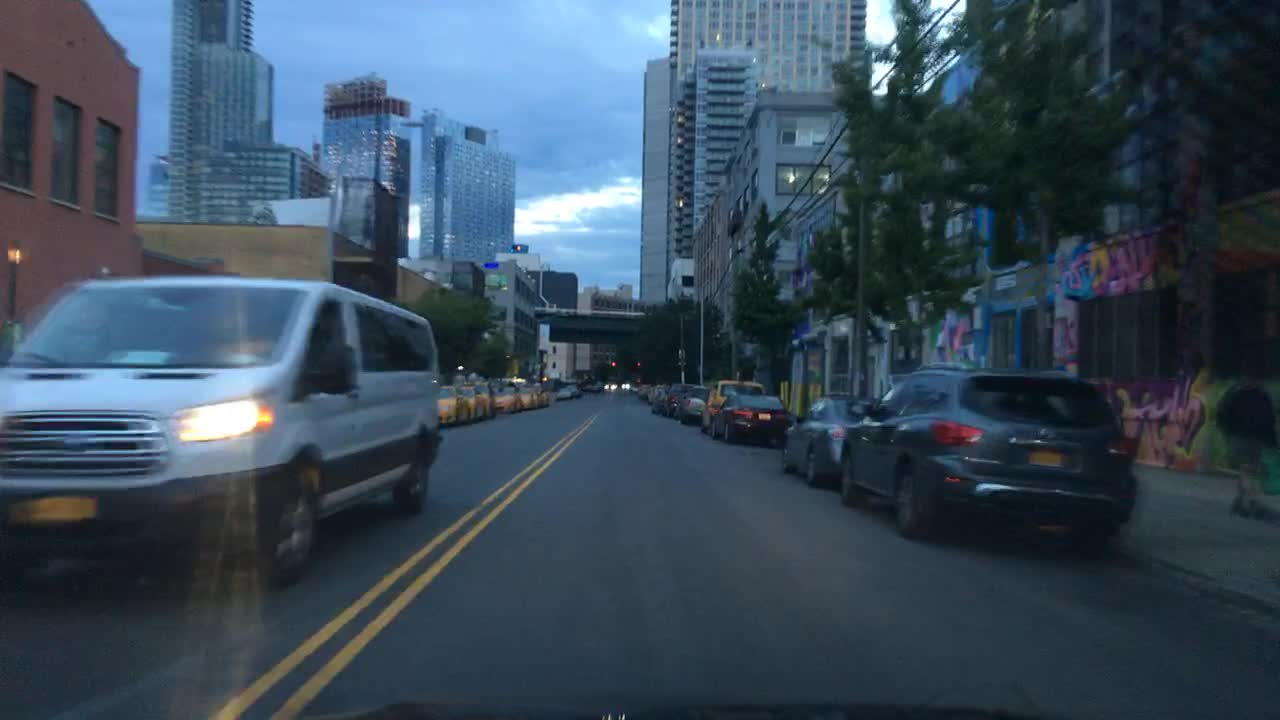car: (0, 276, 443, 599), (840, 360, 1138, 553), (777, 390, 881, 490), (709, 395, 791, 448), (699, 389, 732, 431), (679, 379, 706, 422), (665, 382, 693, 422), (437, 382, 459, 427), (457, 379, 477, 422), (494, 382, 520, 412), (477, 376, 495, 419), (653, 382, 671, 413), (647, 381, 667, 405), (518, 379, 532, 410), (534, 379, 551, 404), (555, 383, 577, 400), (586, 378, 609, 392), (566, 380, 584, 395), (639, 379, 650, 399), (603, 378, 618, 392), (620, 380, 630, 391)
person: (1214, 363, 1278, 515), (710, 389, 724, 415)
traffic light: (633, 357, 645, 369), (609, 357, 619, 369)
